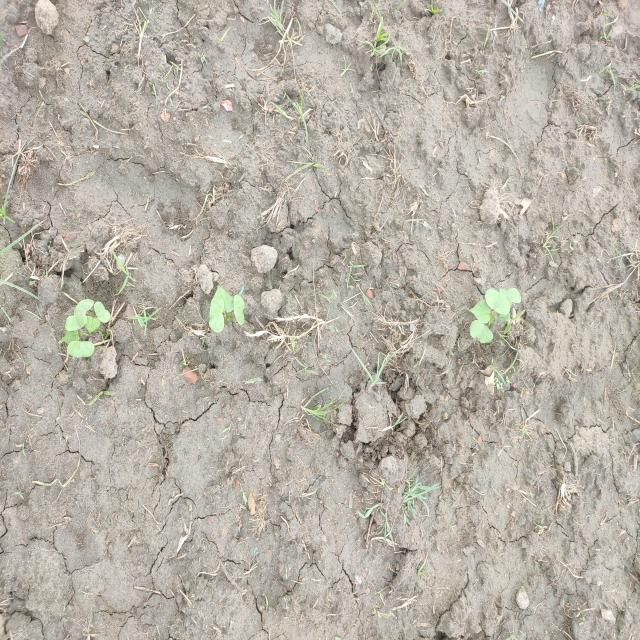seedling: (485, 288, 510, 315), (469, 320, 493, 343), (209, 297, 224, 332), (469, 300, 491, 323), (215, 285, 233, 312), (68, 341, 95, 358), (65, 314, 87, 331), (499, 288, 522, 303), (94, 301, 110, 322), (233, 296, 245, 324), (75, 298, 94, 315), (85, 315, 101, 335), (63, 330, 79, 344)
